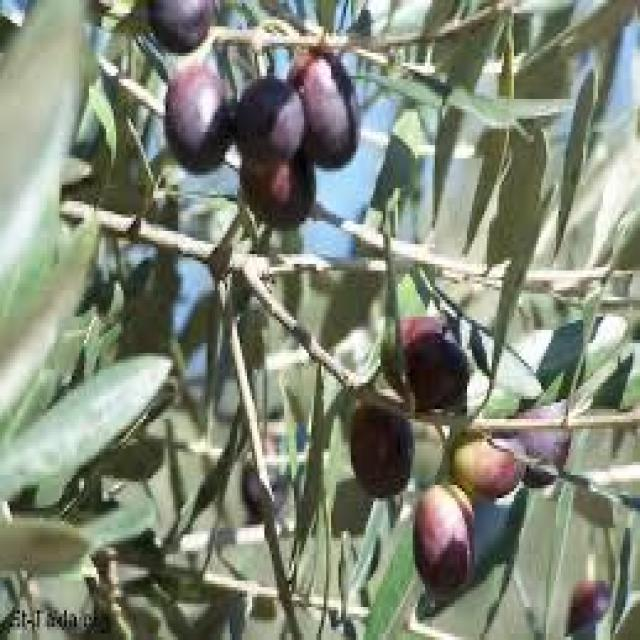Healthy: (163, 63, 228, 173), (413, 485, 472, 600), (351, 407, 413, 496)
